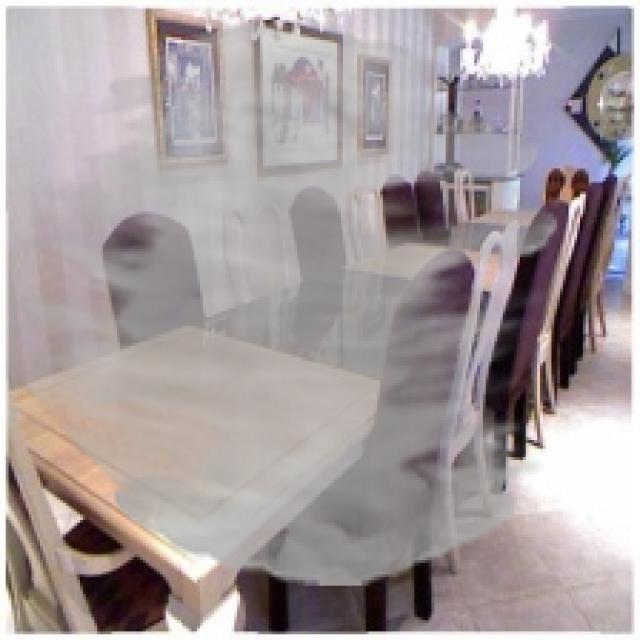Smoke: (14, 20, 557, 586)
